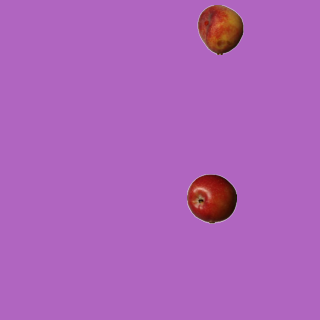Apple Braeburn: (186, 173, 236, 223)
Peach: (195, 4, 245, 54)
